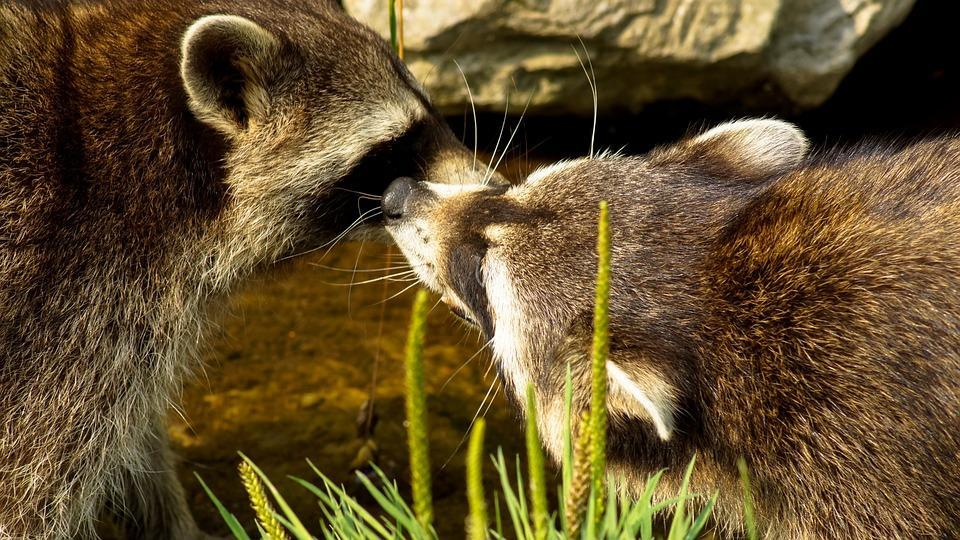raccoon: (0, 0, 513, 540), (379, 118, 960, 540)
